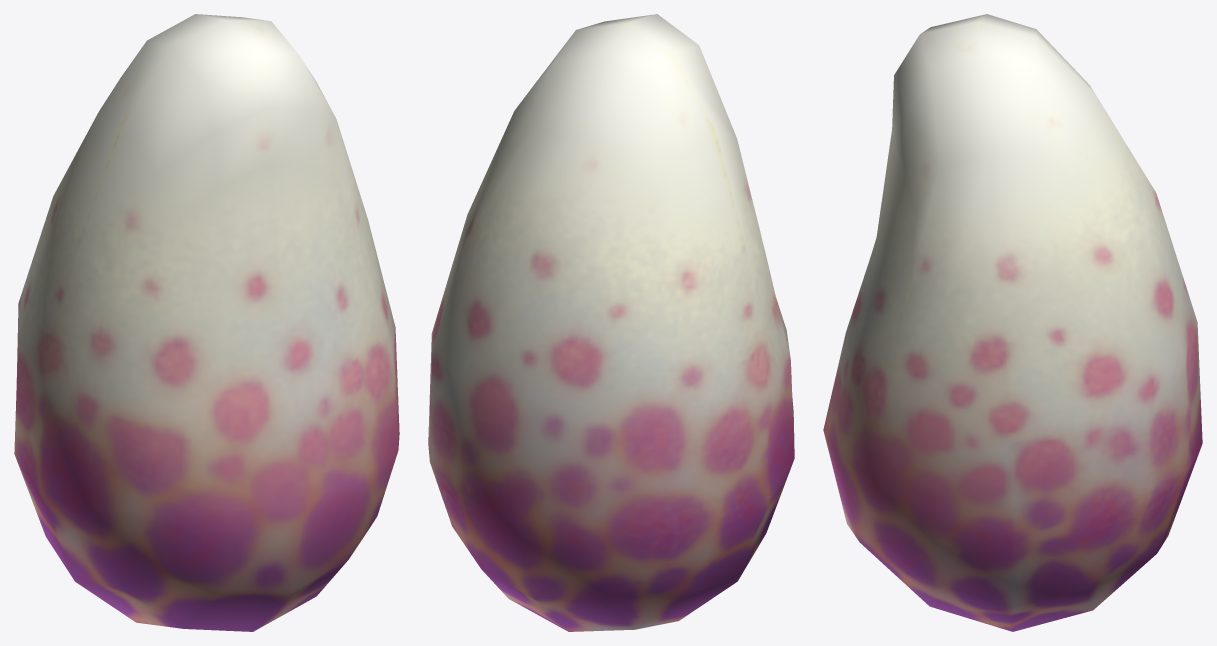
File: eggYutt.FBX
3 views of the same model, side by side, from view 1: azimuth 30°, elevation 25°; view 2: azimuth 150°, elevation 25°; view 3: azimuth 270°, elevation 25° (orthographic). The views are drawn at different scales.
Parts seen in each view (by area): view 1: eggYutt_LOD0; view 2: eggYutt_LOD0; view 3: eggYutt_LOD0.
Part boxes in pixels (bbox=[...]): eggYutt_LOD0: bbox=[14, 14, 399, 631]; eggYutt_LOD0: bbox=[428, 14, 794, 631]; eggYutt_LOD0: bbox=[823, 14, 1202, 631].
Size of what is drawn, in the model's own units: 0.3071 by 0.5475 by 0.3164.
